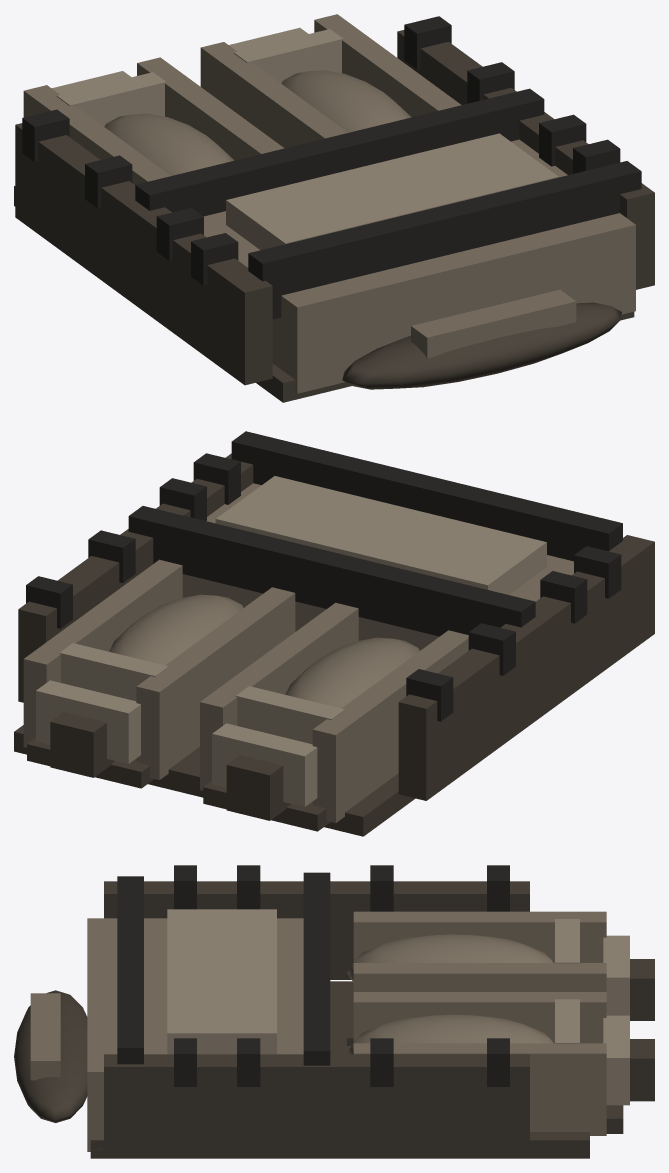
The model's file is CMU3DRMCSatchelDemoSpecWorldCloud.glb.
3 views of the same model, one above another, from view 1: azimuth 30°, elevation 25°; view 2: azimuth 150°, elevation 25°; view 3: azimuth 270°, elevation 25° (orthographic). The views are drawn at different scales.
Parts seen in each view (by area): view 1: lower attached satchel body, left long attached webbing, lower lower-pocket strap, lower pocket folded flap, upper lower-pocket strap, bottom attached rolled edge, tube 1 left wall, right long attached webbing, bottom short buckle, tube 0 right wall, tube 1 right wall, tube 0 collapsed front sleeve (+15 smaller); view 2: left long attached webbing, upper lower-pocket strap, lower pocket folded flap, lower lower-pocket strap, tube 1 left wall, tube 0 left wall, tube 1 right wall, tube 0 right wall, right long attached webbing, tube 1 collapsed front sleeve, tube 0 collapsed front sleeve, tube 0 upper neck lip (+17 smaller); view 3: right long attached webbing, lower pocket folded flap, lower attached satchel body, left long attached webbing, tube 1 right wall, tube 0 left wall, tube 1 left wall, tube 0 right wall, carrier backing, bottom attached rolled edge, upper lower-pocket strap, lower lower-pocket strap (+18 smaller).
Part boxes in pixels (box(x1,y1,x2,y2)): lower attached satchel body: box(203, 139, 635, 393); left long attached webbing: box(15, 123, 272, 385); lower lower-pocket strap: box(248, 161, 641, 319); lower pocket folded flap: box(226, 133, 558, 250); upper lower-pocket strap: box(135, 88, 544, 216); bottom attached rolled edge: box(342, 302, 621, 389); tube 1 left wall: box(200, 42, 347, 148); right long attached webbing: box(397, 30, 654, 289); bottom short buckle: box(411, 289, 576, 358); tube 0 right wall: box(137, 57, 284, 160); tube 1 right wall: box(314, 14, 461, 117); tube 0 collapsed front sleeve: box(104, 113, 234, 175); left long attached webbing: box(398, 535, 654, 800); upper lower-pocket strap: box(128, 506, 535, 636); lower pocket folded flap: box(215, 476, 546, 594); lower lower-pocket strap: box(231, 431, 622, 561); tube 1 left wall: box(136, 587, 295, 779); tube 0 left wall: box(312, 630, 468, 822); tube 1 right wall: box(23, 559, 182, 747); tube 0 right wall: box(200, 602, 358, 790); right long attached webbing: box(18, 453, 253, 702); tube 1 collapsed front sleeve: box(109, 594, 243, 665); tube 0 collapsed front sleeve: box(285, 637, 419, 708); tube 0 upper neck lip: box(212, 723, 317, 806); right long attached webbing: box(104, 1054, 529, 1152); lower pocket folded flap: box(167, 909, 276, 1054); lower attached satchel body: box(87, 918, 303, 1151); left long attached webbing: box(104, 881, 529, 979); tube 1 right wall: box(353, 1043, 606, 1135); tube 0 left wall: box(353, 911, 606, 962); tube 1 left wall: box(353, 992, 606, 1043); tube 0 right wall: box(353, 963, 606, 991); carrier backing: box(90, 981, 589, 1158); bottom attached rolled edge: box(14, 990, 87, 1122); upper lower-pocket strap: box(303, 872, 330, 1065); lower lower-pocket strap: box(117, 876, 143, 1064).
Size of the model in its own units: 0.4194 by 0.125 by 0.6016.
